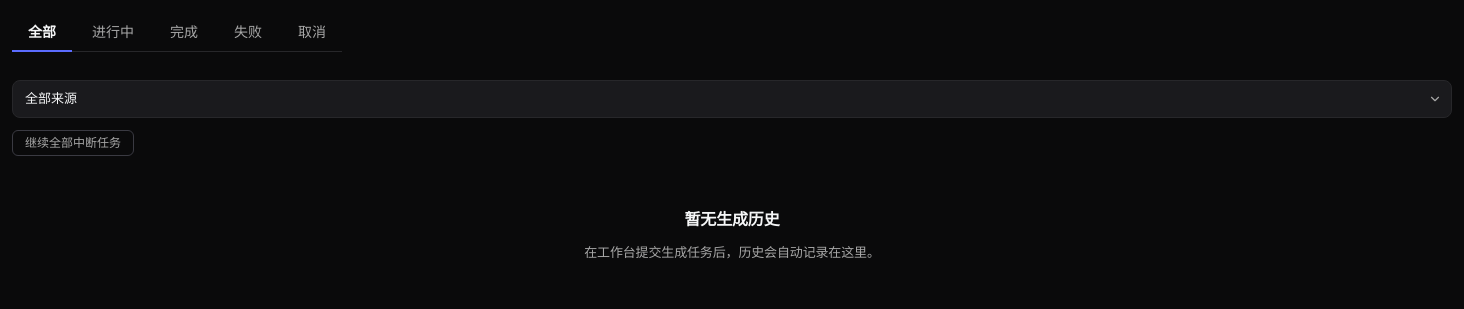
it: HistoryTab offset 分页（移除 limit=100 假全集，按 root family） › 继续全部中断任务后显示结果并重新加载历史
Click the button "继续全部中断任务" at (73, 142), box x1=12 y1=130 x2=134 y2=156
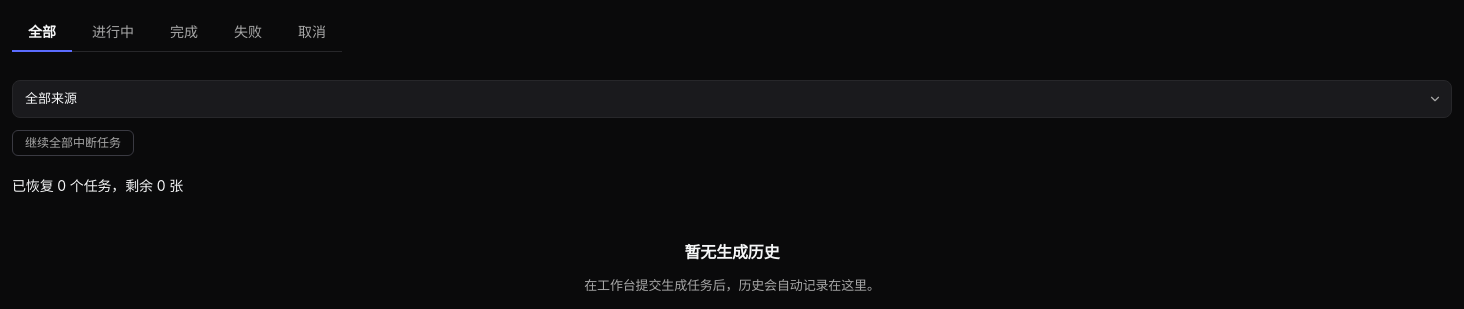
Now the text "已恢复 0 个任务，剩余 0 张" is shown, box x1=12 y1=176 x2=183 y2=194
